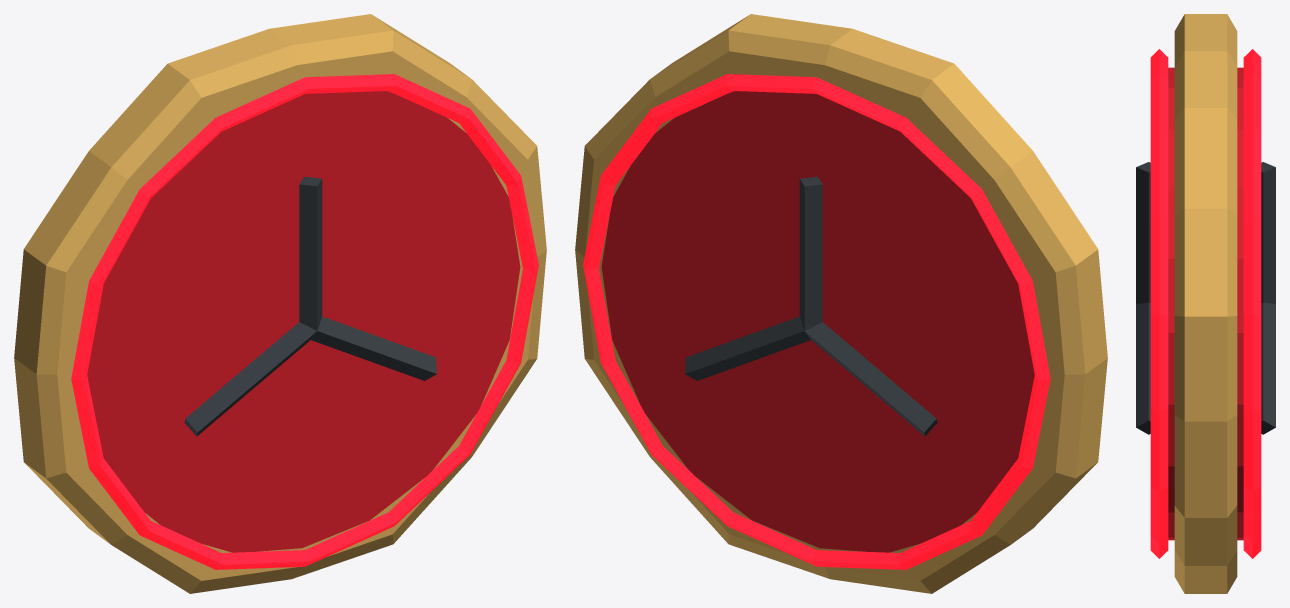
Rendered from points-25-lod0.glb.
The picture shows the model from 3 angles, left to right: view 1: azimuth 30°, elevation 25°; view 2: azimuth 150°, elevation 25°; view 3: azimuth 270°, elevation 25°; orthographic projection. The views are drawn at different scales.
Parts seen in each view (by area): view 1: red enamel face, chamfered gear rim, red luminous inset, neutral three spoke glyph, neutral three spoke glyph.001, neutral three spoke glyph.002; view 2: red enamel face.001, chamfered gear rim, red luminous inset.001, neutral three spoke glyph.003, neutral three spoke glyph.004, neutral three spoke glyph.005; view 3: chamfered gear rim, red luminous inset, red luminous inset.001, red enamel face, red enamel face.001, neutral three spoke glyph, neutral three spoke glyph.003, neutral three spoke glyph.002, neutral three spoke glyph.005.
Part boxes in pixels (left/top/right/bottom): red enamel face: left=87, top=91, right=520, bottom=552; chamfered gear rim: left=14, top=14, right=546, bottom=593; red luminous inset: left=71, top=74, right=538, bottom=569; neutral three spoke glyph: left=299, top=176, right=322, bottom=330; neutral three spoke glyph.001: left=184, top=322, right=316, bottom=436; neutral three spoke glyph.002: left=311, top=316, right=436, bottom=380; red enamel face.001: left=601, top=91, right=1034, bottom=552; chamfered gear rim: left=575, top=14, right=1107, bottom=593; red luminous inset.001: left=583, top=74, right=1050, bottom=569; neutral three spoke glyph.003: left=799, top=176, right=822, bottom=330; neutral three spoke glyph.004: left=805, top=322, right=937, bottom=436; neutral three spoke glyph.005: left=685, top=316, right=810, bottom=380; chamfered gear rim: left=1174, top=14, right=1237, bottom=593; red luminous inset: left=1150, top=49, right=1168, bottom=558; red luminous inset.001: left=1243, top=49, right=1261, bottom=558; red enamel face: left=1168, top=67, right=1174, bottom=540; red enamel face.001: left=1237, top=67, right=1243, bottom=540; neutral three spoke glyph: left=1136, top=162, right=1150, bottom=303; neutral three spoke glyph.003: left=1261, top=162, right=1275, bottom=303; neutral three spoke glyph.002: left=1136, top=302, right=1150, bottom=434; neutral three spoke glyph.005: left=1261, top=302, right=1275, bottom=434.
Size of the model in its own units: 0.576 by 0.576 by 0.1444.
